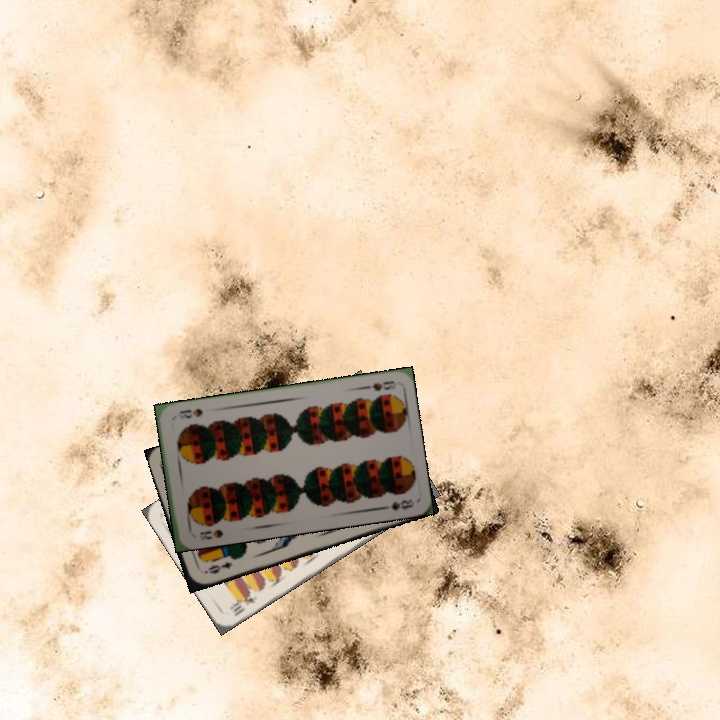E10: (225, 588, 260, 619)
EO: (200, 557, 235, 576)
S8: (357, 376, 398, 393), (196, 525, 226, 543)
